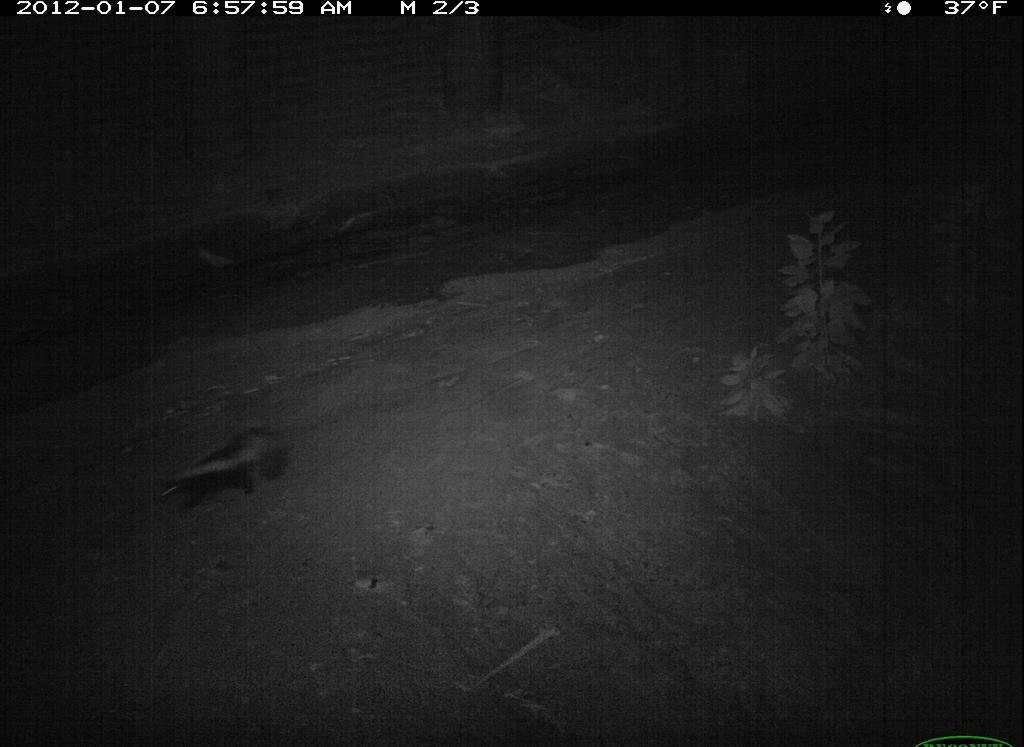skunk: (137, 405, 290, 528)
